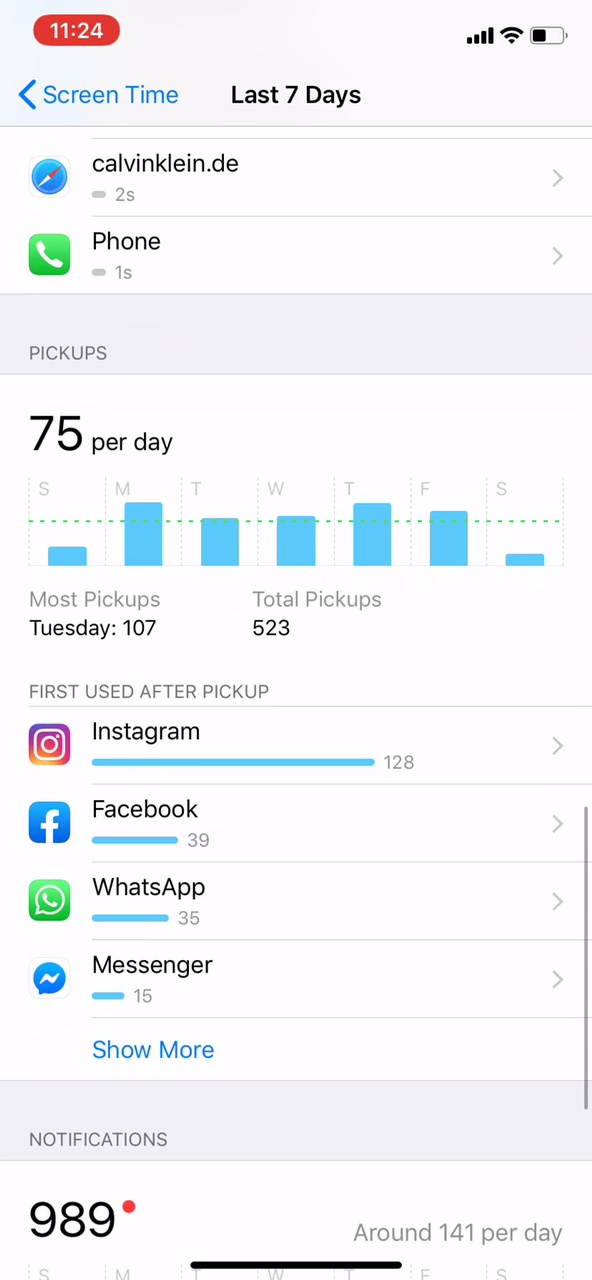pick_app: (20, 707, 422, 780), (18, 788, 236, 860), (22, 942, 237, 1011), (18, 869, 231, 932)
pick_over: (20, 580, 423, 655), (425, 653, 429, 664)
week: (217, 73, 376, 116)
